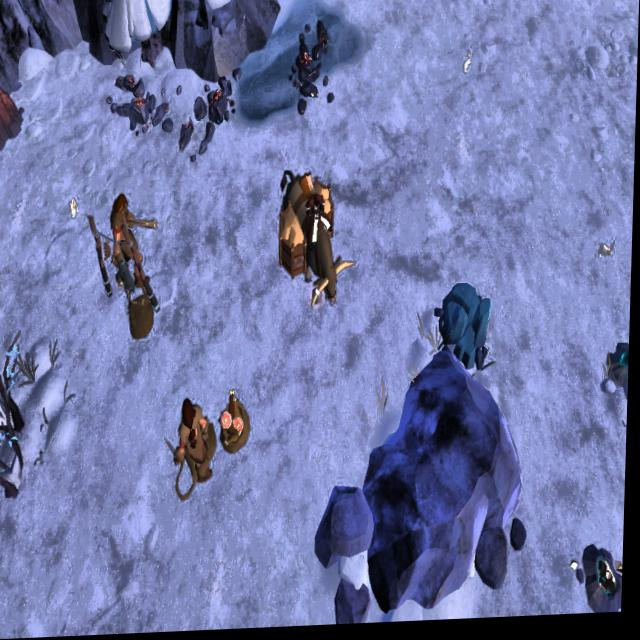enemy_factionKeeper: (111, 182, 159, 277), (175, 393, 222, 484)
rock_t4: (441, 278, 498, 368)
rock_t5: (0, 81, 32, 159)
